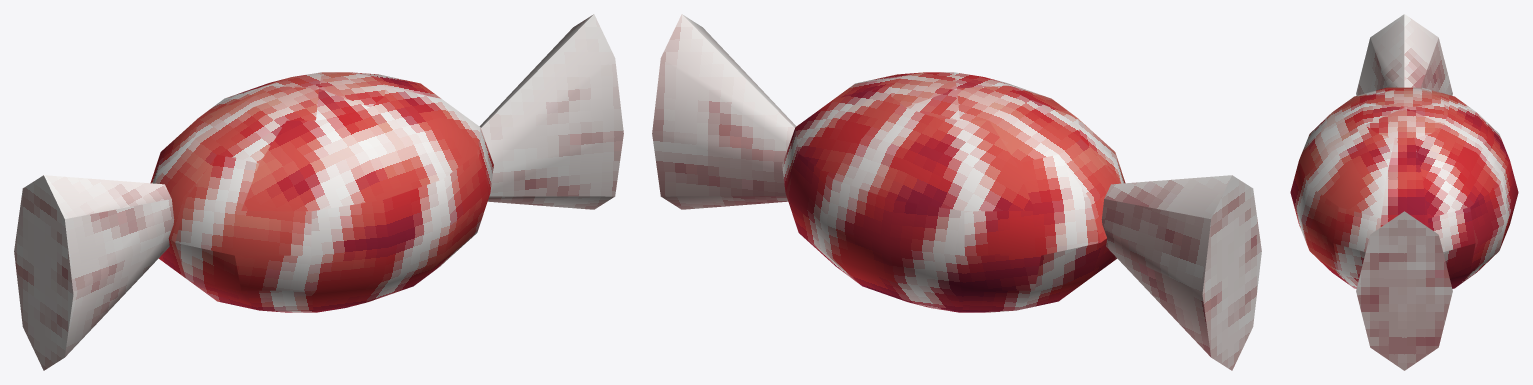
Rendered from candy_own.glb.
The picture shows the model from 3 angles, left to right: view 1: azimuth 30°, elevation 25°; view 2: azimuth 150°, elevation 25°; view 3: azimuth 270°, elevation 25°; orthographic projection. The views are drawn at different scales.
Parts seen in each view (by area): view 1: mesh; view 2: mesh; view 3: mesh.
Boxes of the visible parts, x1,y1,x2,y2 form: mesh: (14, 14, 623, 370); mesh: (652, 14, 1261, 370); mesh: (1290, 14, 1518, 370).
Size of the model in its own units: 0.0466 by 0.018 by 0.0205.
1 material, 1 textured.
